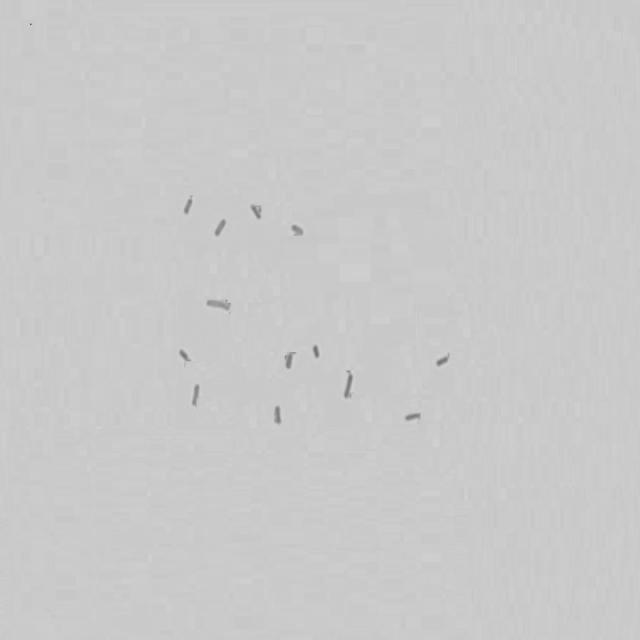E-coli: (202, 295, 235, 311), (177, 345, 195, 369), (247, 200, 265, 223), (181, 190, 196, 217), (341, 368, 354, 399), (432, 351, 450, 373), (190, 379, 203, 407), (272, 402, 285, 427), (289, 219, 305, 239), (213, 215, 228, 236), (403, 411, 422, 427), (309, 340, 322, 362), (283, 349, 295, 371)
